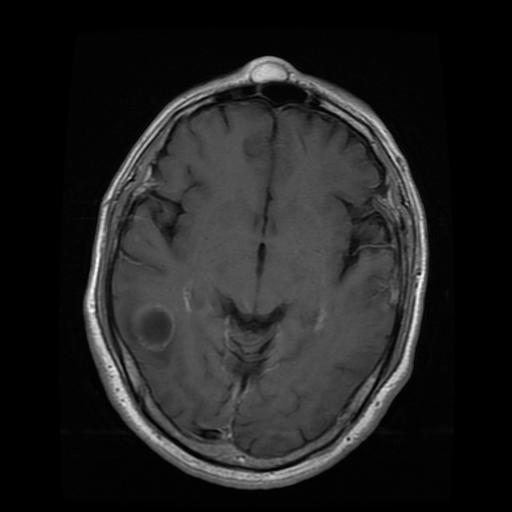Gliomia_tumour: (130, 302, 175, 349)
